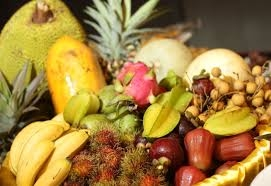kitchen_waste: (2, 2, 97, 101), (43, 30, 112, 127), (1, 116, 95, 186), (185, 44, 259, 100), (132, 35, 201, 94), (1, 59, 43, 138), (202, 103, 260, 141), (138, 100, 187, 144), (58, 85, 106, 129), (180, 125, 219, 168), (212, 129, 263, 161), (148, 135, 186, 168), (68, 152, 100, 183), (97, 145, 121, 185), (117, 146, 149, 175), (88, 130, 122, 152), (227, 90, 247, 108), (217, 80, 234, 97), (209, 64, 227, 79), (249, 63, 266, 77), (244, 81, 260, 95)
